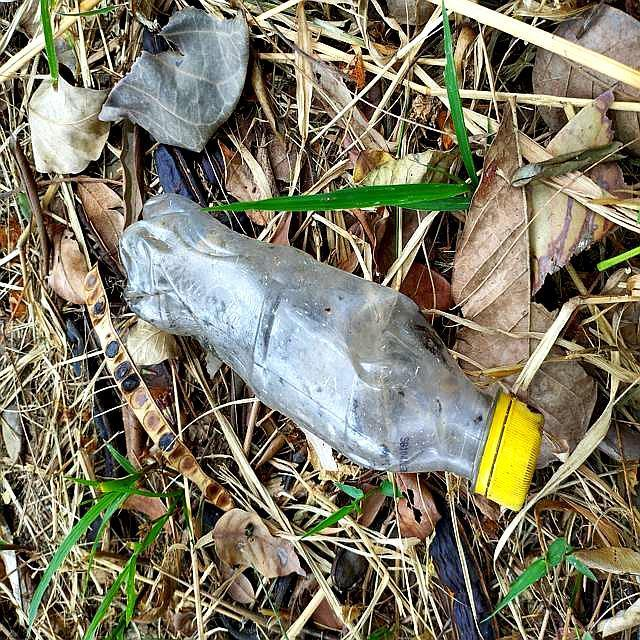Non-biodegradable: (116, 189, 546, 515)
